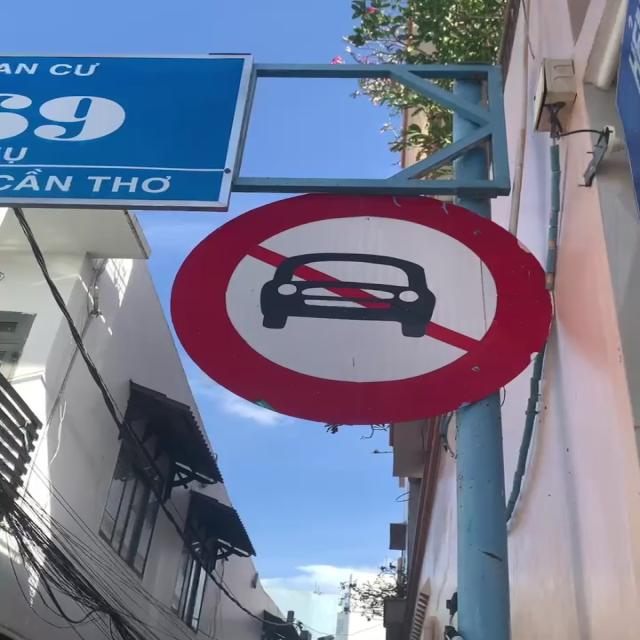Cam_O_To: (169, 185, 554, 428)
